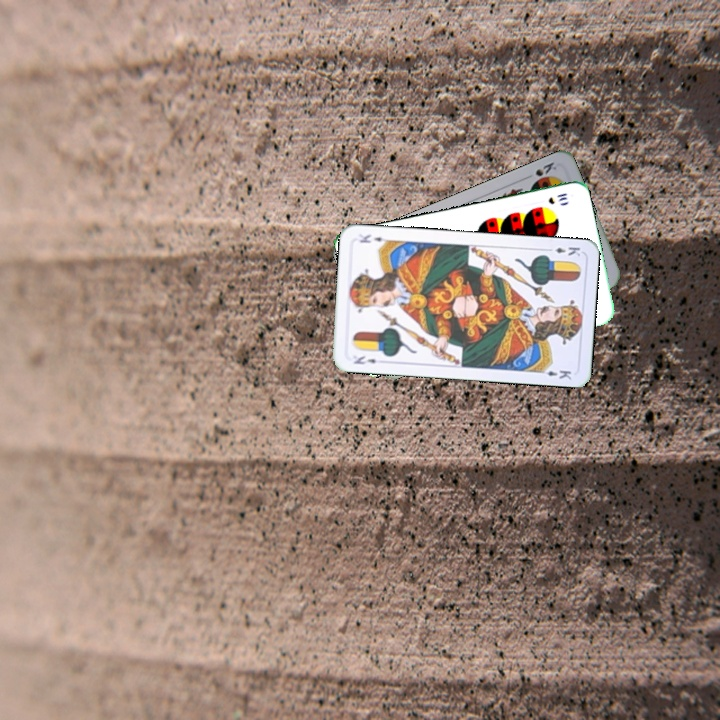EK: (542, 243, 583, 258), (350, 352, 379, 367)
S10: (544, 189, 570, 207)
SK: (521, 158, 559, 182)
